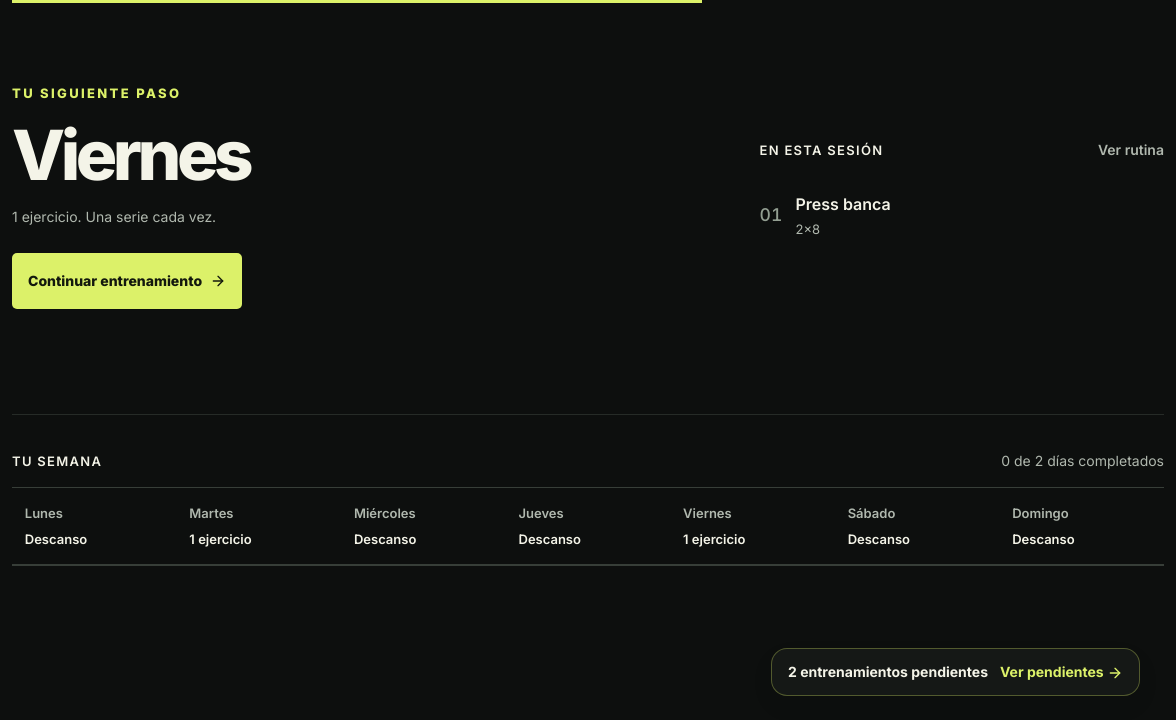
Test case: dos pendientes aparecen por separado sin sustituir Hoy y se puede escoger uno
The width and height of the screenshot is (1176, 720).
What coordinates should you click on to do the following:
click the link "2 entrenamientos pendientes Ver pendientes"
I would click on:
 (956, 672)
Its box is [771, 648, 1140, 696].
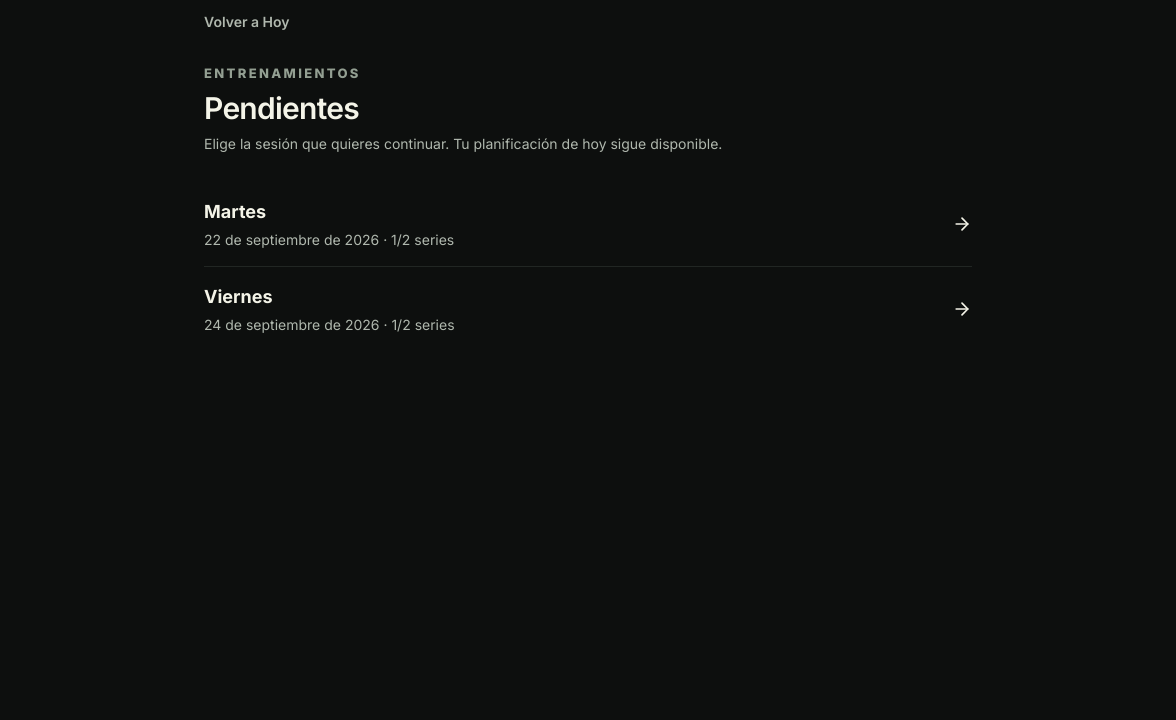
Expected: the text "Martes" is shown, [204, 201, 266, 222]
Now the text "22 de septiembre de 2026 · 1/2 series" is shown, box [204, 230, 454, 250]
